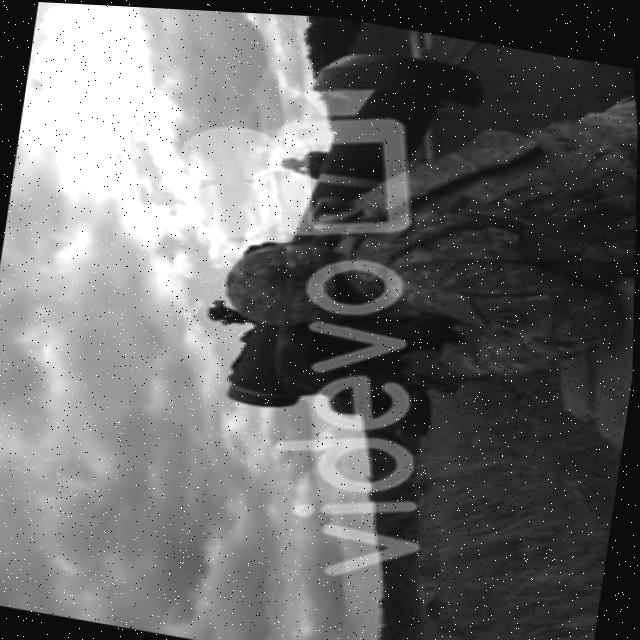rocket: (255, 11, 508, 267)
